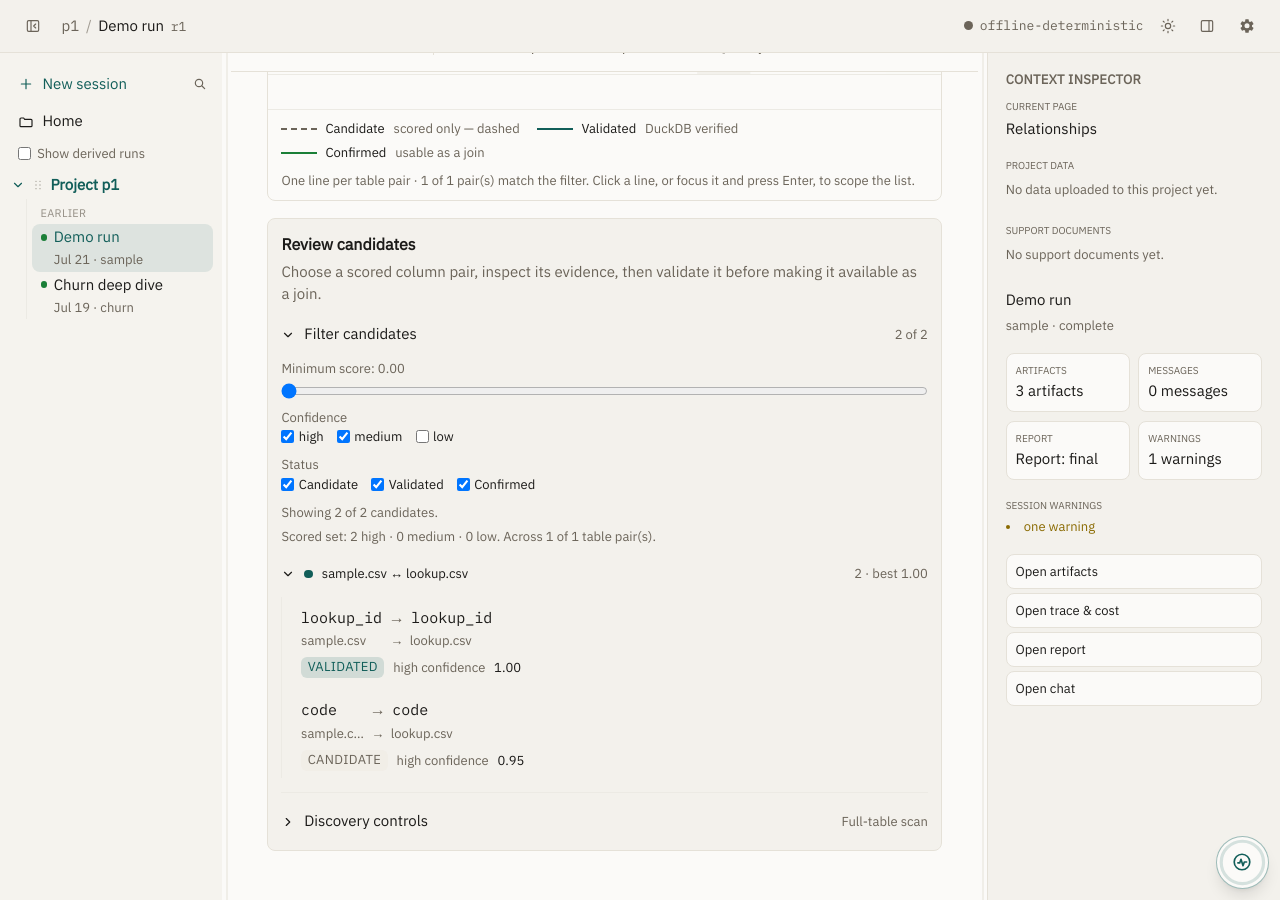
Test: Relationships page › updates pair and edge route context atomically
(page scrolled)
Click the button named "sample.csv.code → lookup.csv.code, high confidence, candidate".
click(319, 710)  # box x1=291 y1=690 x2=928 y2=778
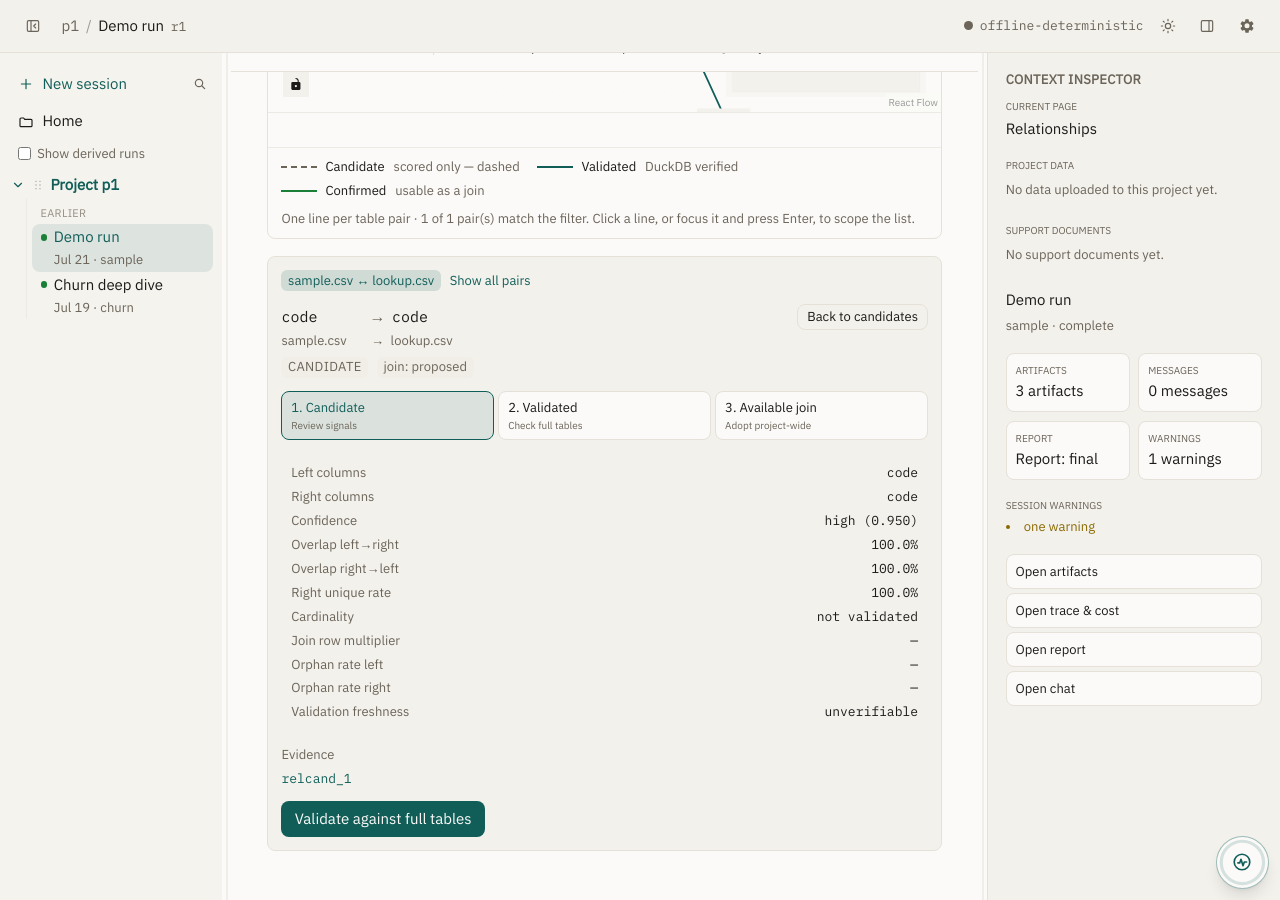
Click the button "Show all pairs".
click(490, 281)  # box x1=450 y1=271 x2=531 y2=290
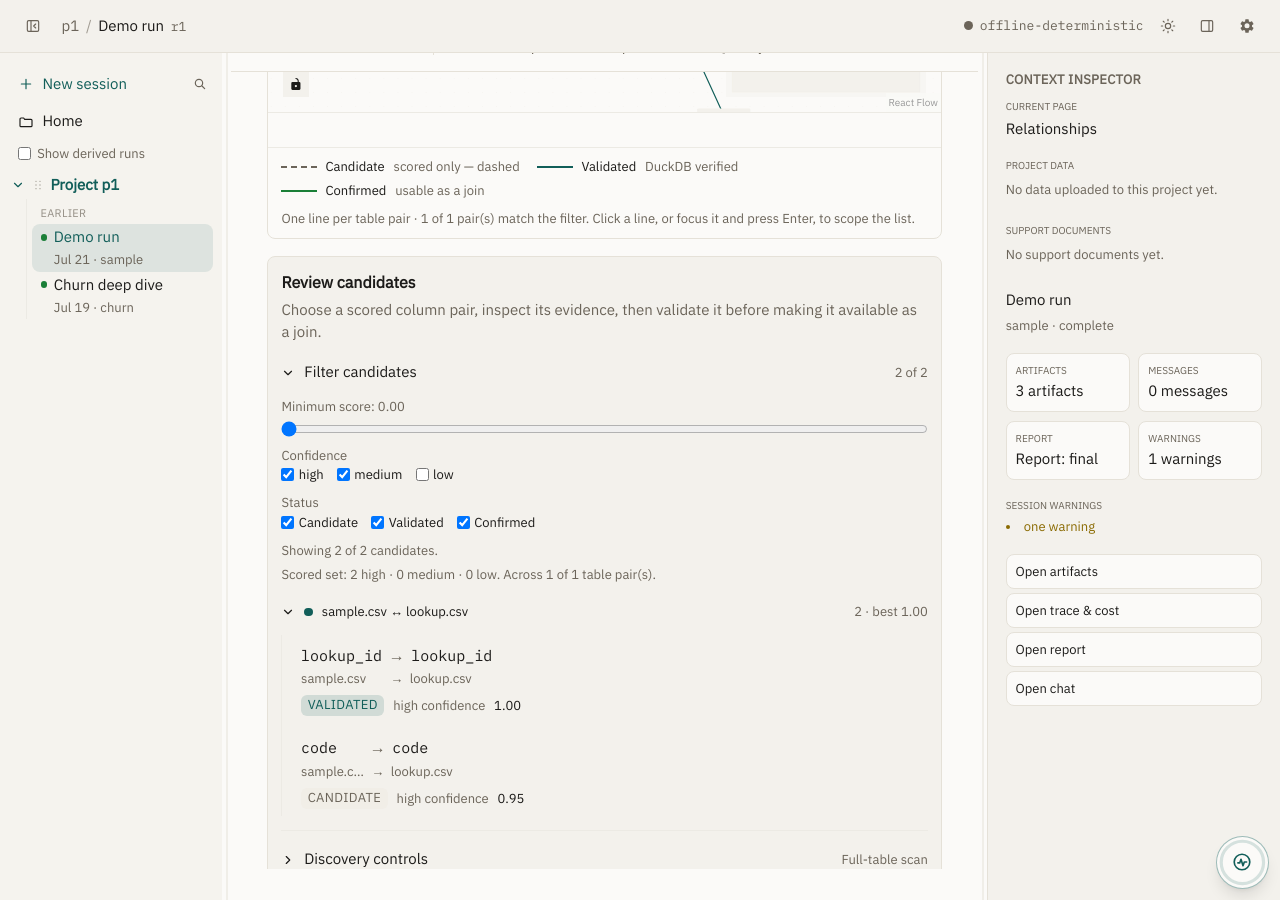
Expected: the link "relcand_1" is gone
